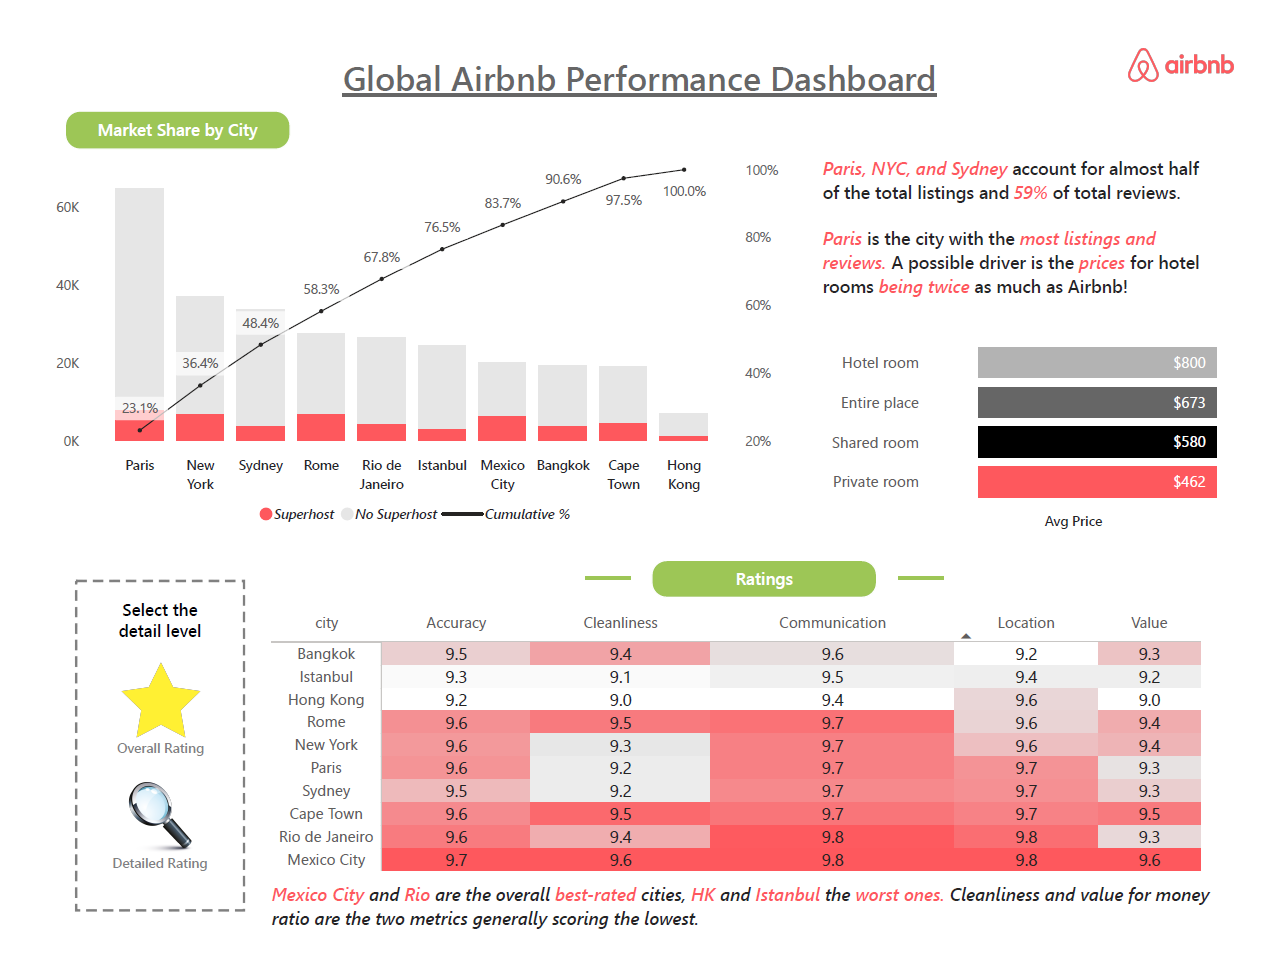

The page's visual inventory and layout, read from the dashboard file:
{"tool":"powerbi","page":{"name":"Ratings","canvas":[960,720],"ordinal":1},"visuals":[{"type":"textbox","box":[227.5,0,505,50],"z":0},{"type":"textbox","box":[47.8,58.9,222.2,32.2],"z":1000},{"type":"lineStackedColumnComboChart","fields":{"Category":["Listings.city"],"Y":["Listings.Superhost Listings","Listings.No Superhost Listings"],"Y2":["Listings.Cumulative %"]},"box":[47.8,105.6,590,294.4],"z":2000},{"type":"barChart","fields":{"Category":["Listings.room_type"],"Y":["Listings.Avg Price"]},"box":[611.1,242.2,326.7,157.8],"z":3000},{"type":"textbox","box":[637.8,126.7,290,115.6],"z":4000},{"type":"textbox","box":[391.2,400,135,35],"z":5000},{"type":"image","box":[77.4,490,60,66.2],"z":5005,"group":"g2"},{"type":"image","box":[80,586.2,60,61.2],"z":5006,"group":"g1"},{"type":"textbox","box":[61.2,550,93.8,22.5],"z":5010,"group":"g2"},{"type":"textbox","box":[60,647.4,97.5,21.2],"z":5011,"group":"g1"},{"type":"shape","box":[321.2,400,60,35],"z":6000},{"type":"shape","box":[533.8,400,60,35],"z":7000},{"type":"image","box":[0,387.5,216.2,313.8],"z":8000},{"type":"image","box":[853.8,0,106.2,25],"z":9000},{"type":"textbox","box":[58.8,423.8,100,45],"z":10000},{"type":"pivotTable","fields":{"Rows":["Listings.city"],"Values":["Listings.Accuracy","Listings.Cleanliness","Listings.Communication","Listings.Location","Listings.Value"]},"box":[200,446.2,727.5,222.5],"z":11000},{"type":"group","id":"g1","title":"Group 1","box":[60,586.2,97.5,82.5],"z":13000},{"type":"group","id":"g2","title":"Group 2","box":[61.2,490,93.8,82.5],"z":14000},{"type":"textbox","box":[200,668.8,727.5,42.5],"z":15000}]}

Visuals, with their boxes in screenshot pixels (x1, y1, x2, y2), scaled from the page's 960x720 canvas onto the 1277x976 screenshot:
textbox: 303/0/974/68
textbox: 64/80/359/123
lineStackedColumnComboChart - Listings.city x Listings.Superhost Listings: 64/143/848/542
barChart - Listings.room_type x Listings.Avg Price: 813/328/1247/542
textbox: 848/172/1234/328
textbox: 520/542/700/590
image: 103/664/183/754
image: 106/795/186/878
textbox: 81/746/206/776
textbox: 80/878/210/906
shape: 427/542/507/590
shape: 710/542/790/590
image: 0/525/288/951
image: 1136/0/1276/34
textbox: 78/574/211/635
pivotTable - Listings.city x Listings.Accuracy: 266/605/1234/906
"Group 1" group: 80/795/210/906
"Group 2" group: 81/664/206/776
textbox: 266/907/1234/964
